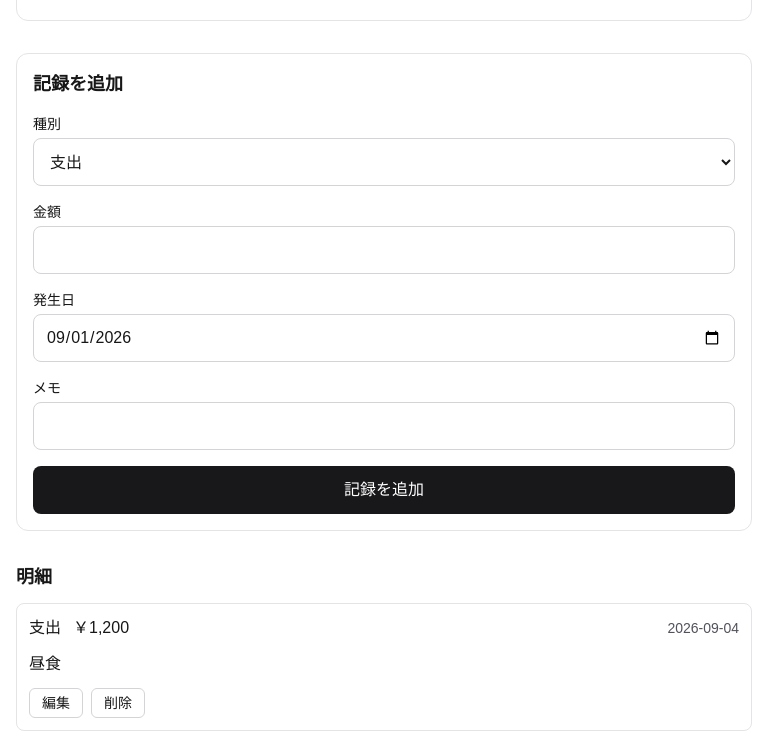
Scenario: 失敗表示とログアウト › 保存失敗でも既存の明細と要約を残す
(page scrolled)
What coordinates should you click on to do the following:
click the button "記録を追加"
I would click on:
 (384, 490)
Its box is top-left (33, 466), bottom-right (735, 514).
(page scrolled)
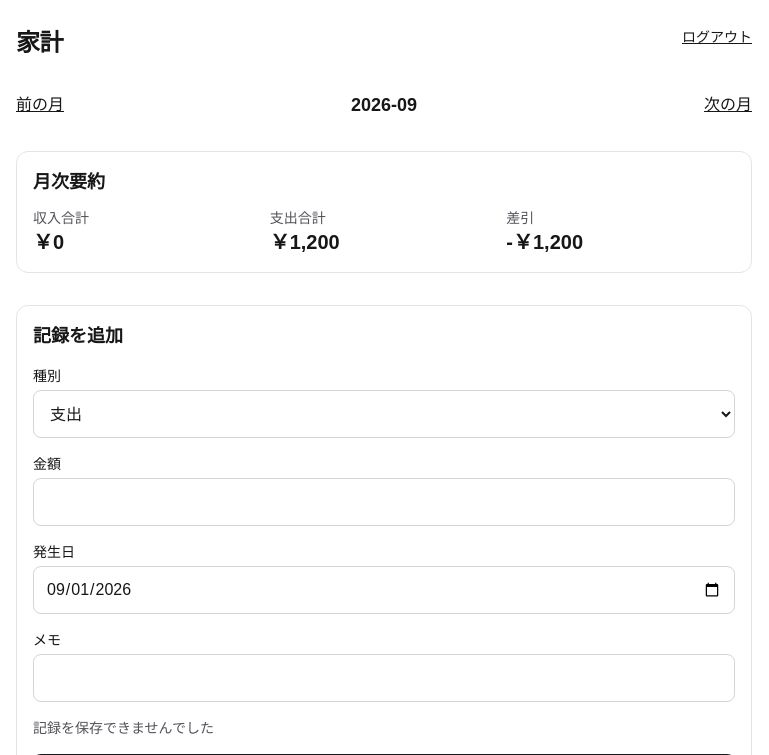
Now the text "記録を保存できませんでした" is shown, box top-left (33, 720), bottom-right (214, 736)
